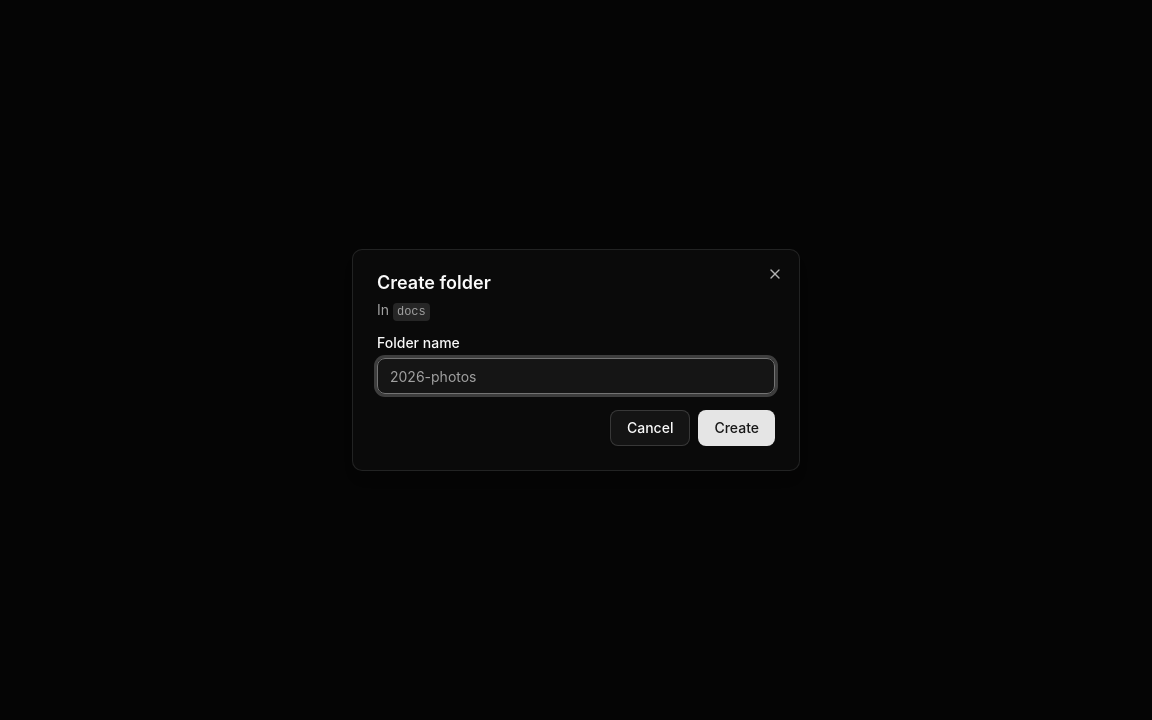
Test: CreateFolderDialog › shows non-field errors as an inline Alert (not a toast)
Type "reports" into the field labelled "Folder name" at (576, 376), box [377,358,775,394]
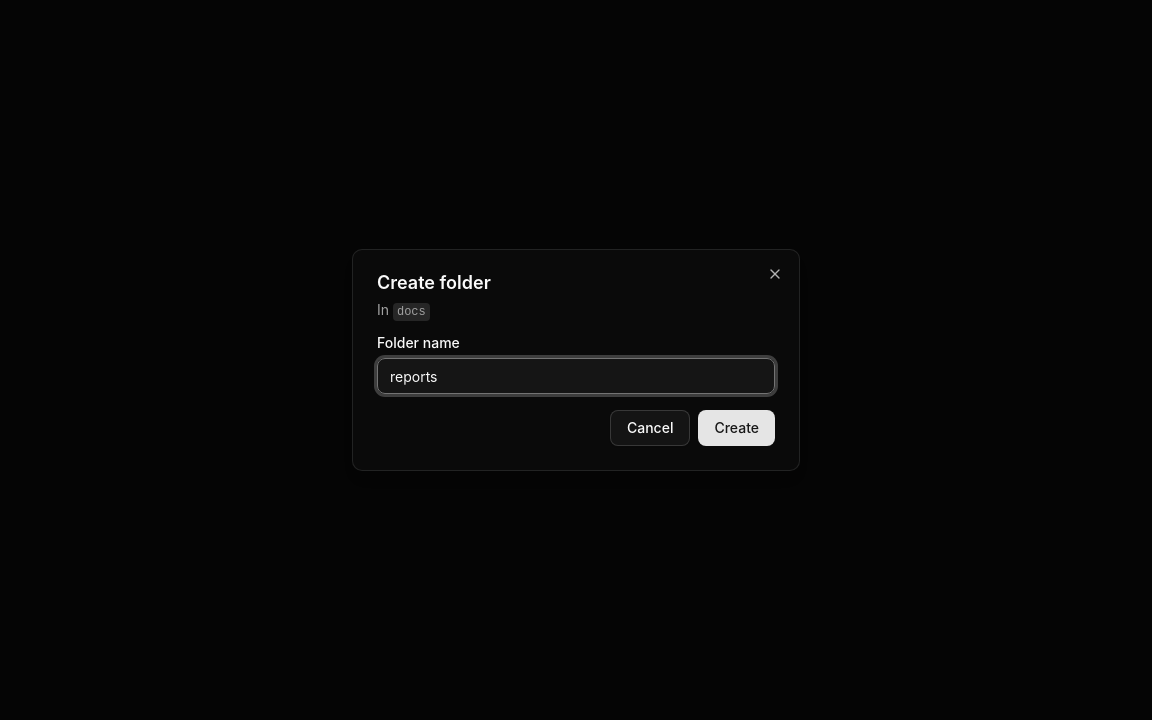
Click the button "Create" at (737, 428), box [698,410,775,446]
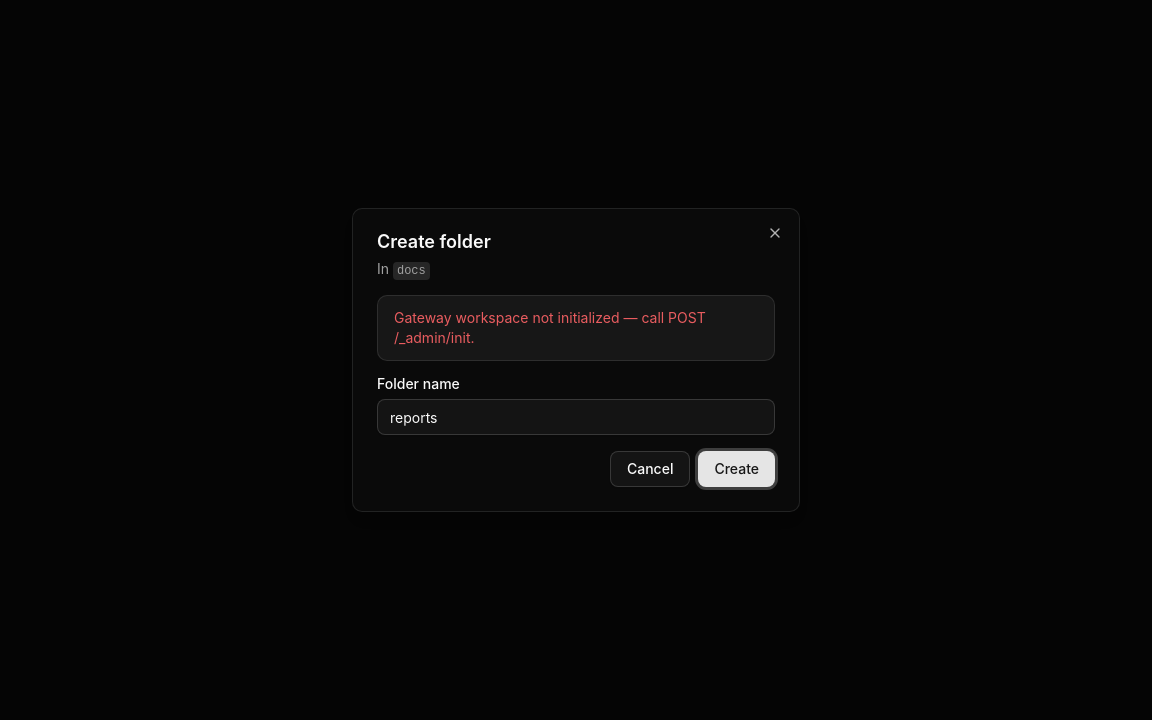
Expected: the message shows "workspace not initialized", [394,309,706,346]
